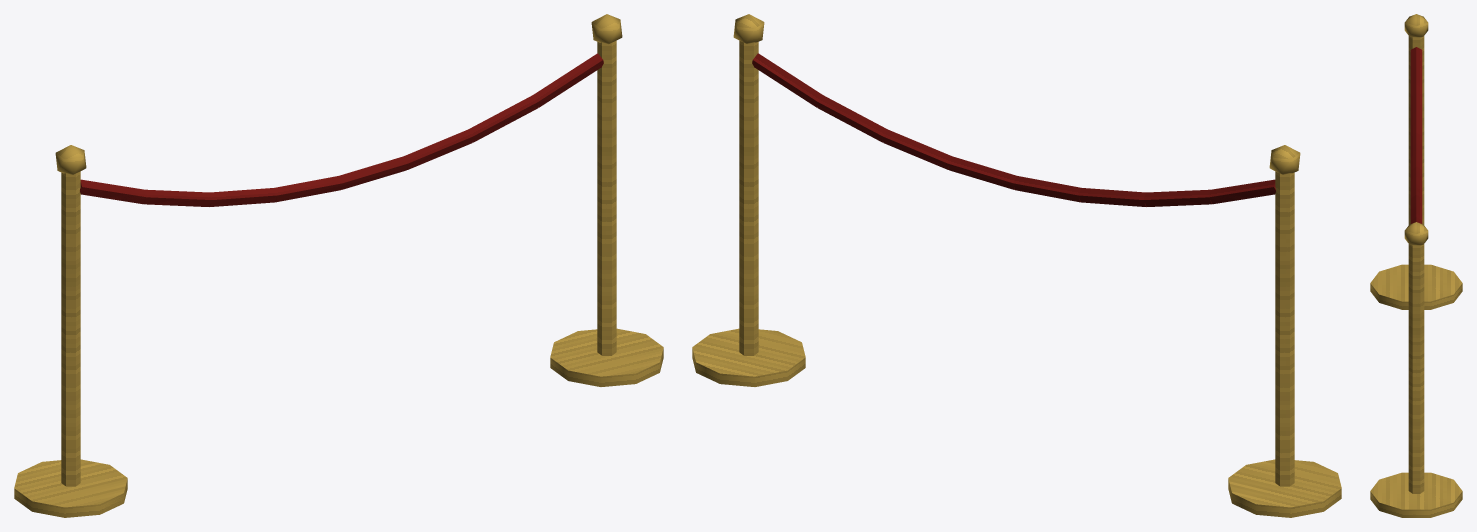
The model's file is pedestal_corda.glb.
The picture shows the model from 3 angles, left to right: view 1: azimuth 30°, elevation 25°; view 2: azimuth 150°, elevation 25°; view 3: azimuth 270°, elevation 25°; orthographic projection. The views are drawn at different scales.
Parts seen in each view (by area): view 1: Inteiro, Peca_02, Peca_00; view 2: Inteiro, Peca_02, Peca_00; view 3: Inteiro.
Part boxes in pixels (x1=…): Inteiro: x1=14, y1=14, x2=663, y2=517; Peca_02: x1=80, y1=60, x2=603, y2=206; Peca_00: x1=19, y1=459, x2=126, y2=512; Inteiro: x1=692, y1=14, x2=1341, y2=517; Peca_02: x1=752, y1=60, x2=1275, y2=206; Peca_00: x1=1228, y1=459, x2=1336, y2=503; Inteiro: x1=1370, y1=14, x2=1462, y2=517.
Size of the model in its own units: 1.89 by 0.995 by 0.3.
Materials: 1 (1 with a texture image).
